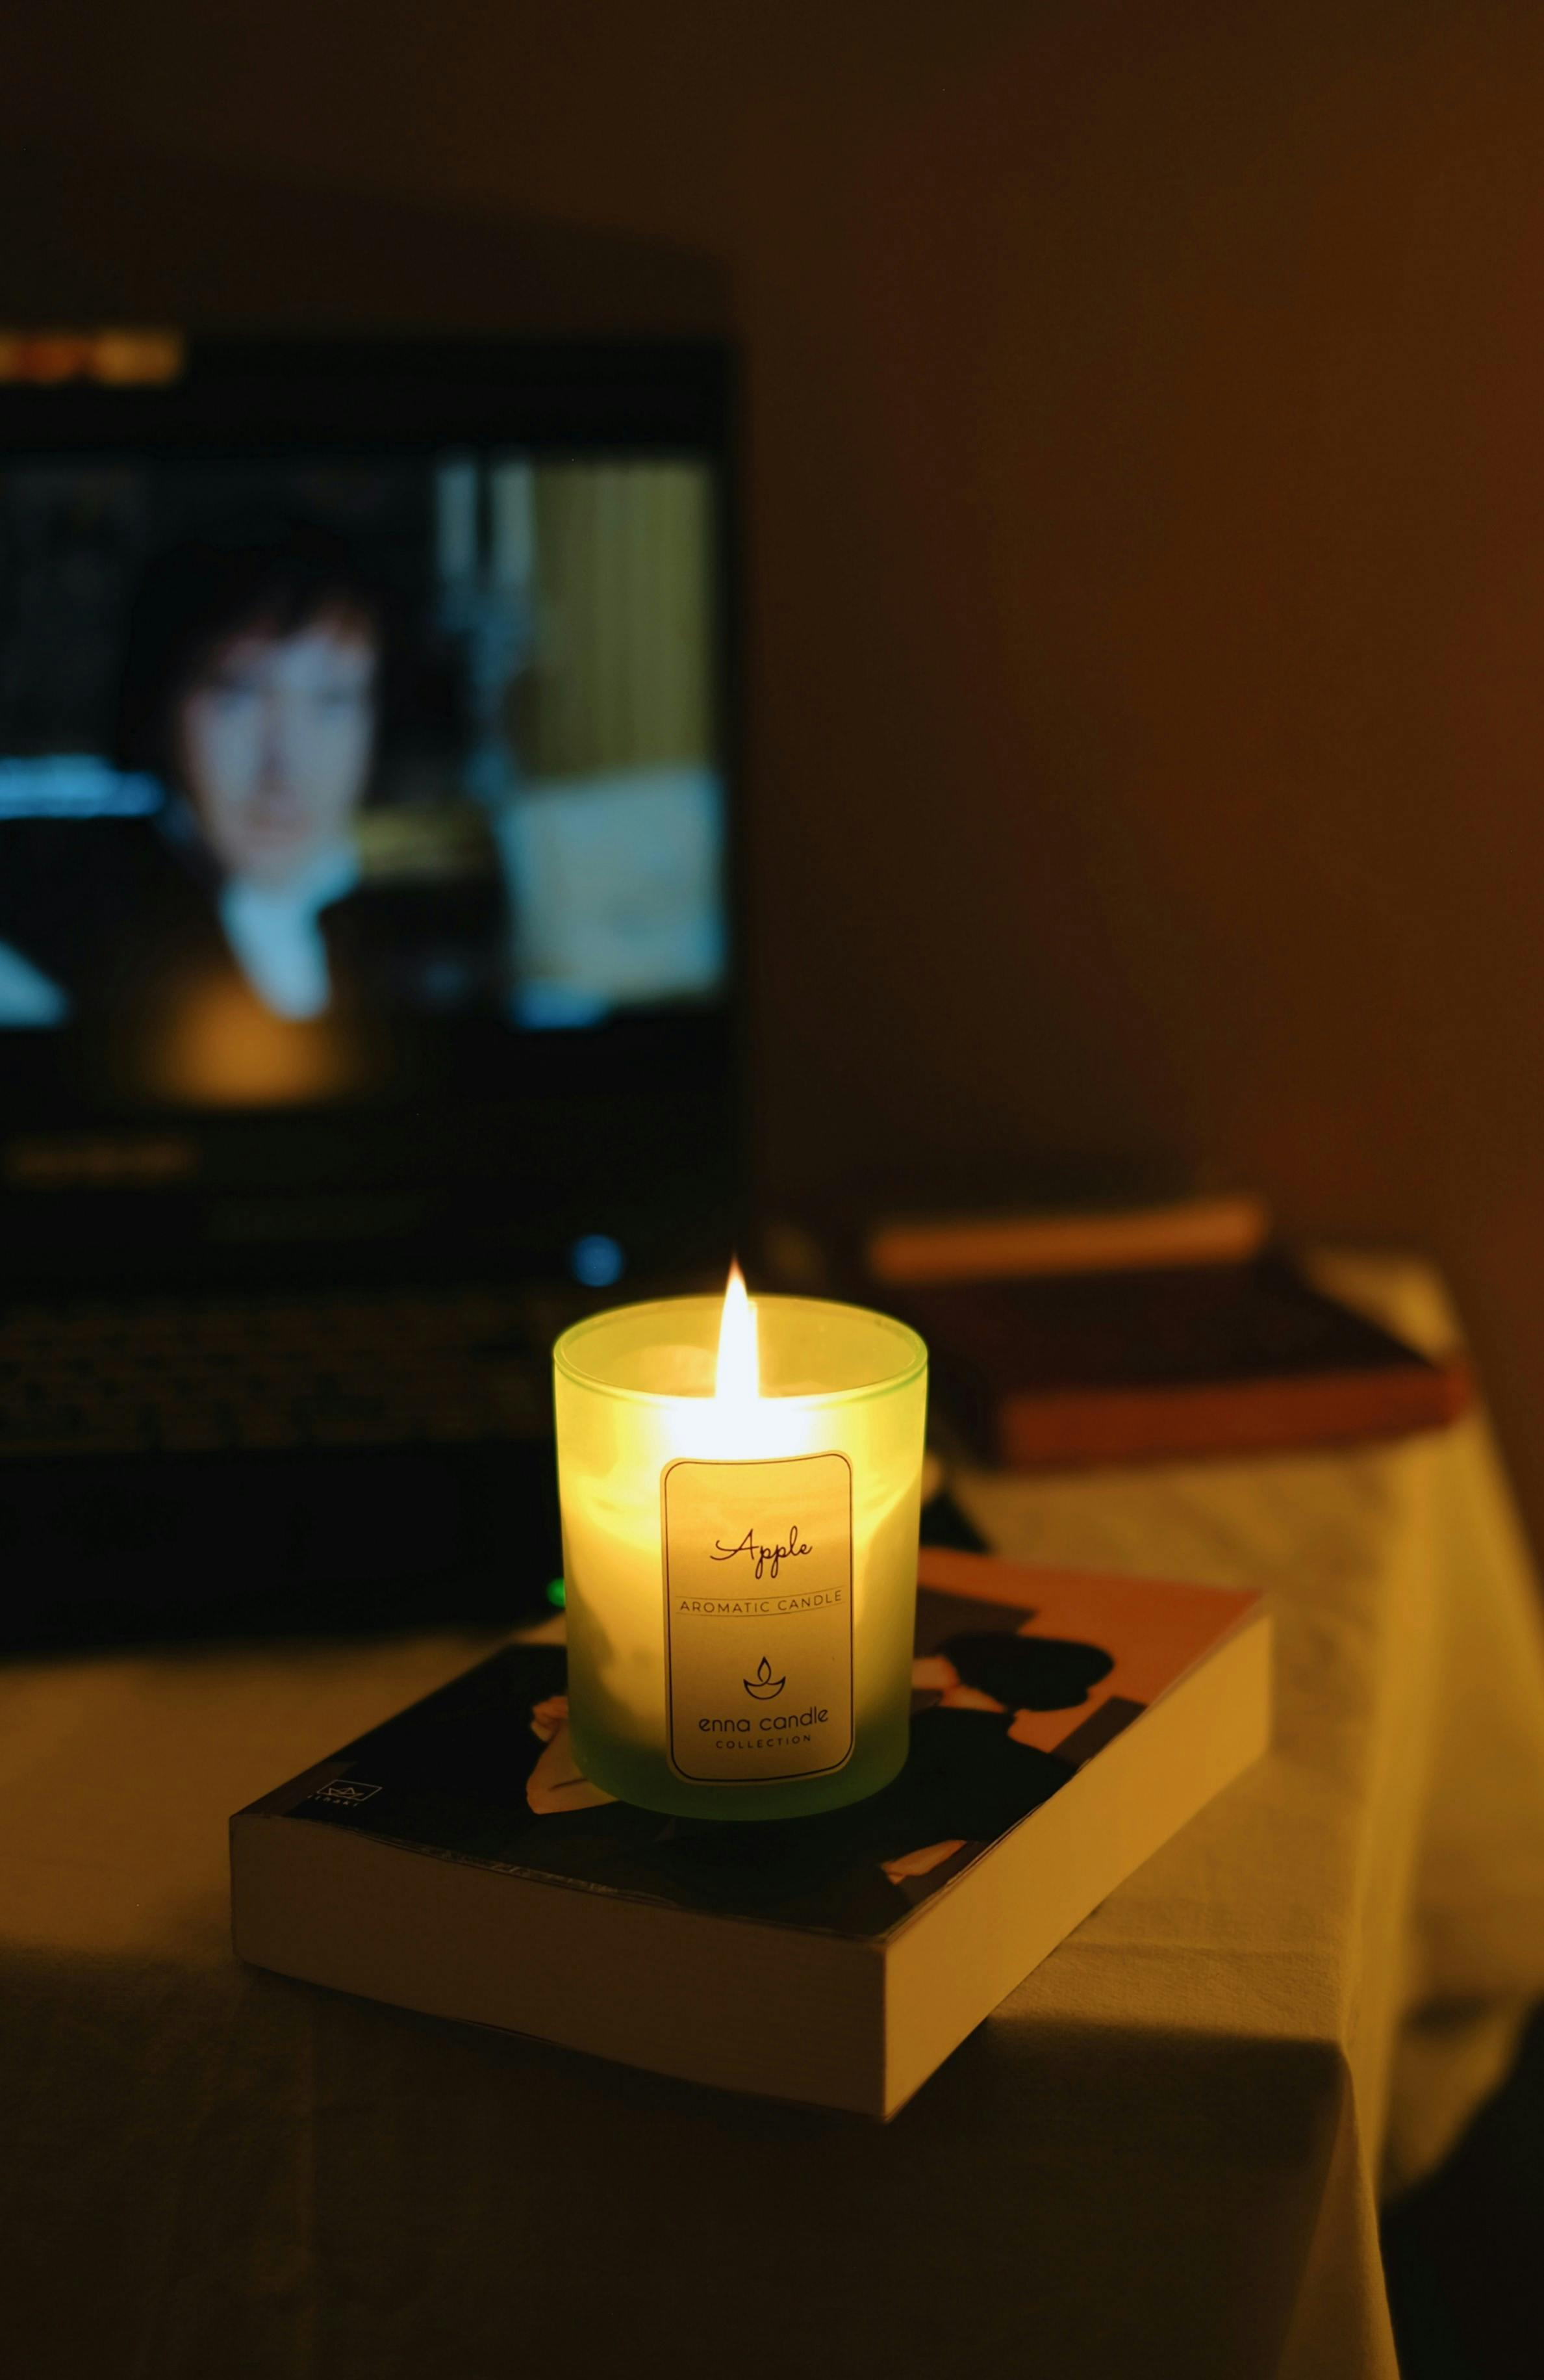Fire: (684, 1256, 796, 1395)
